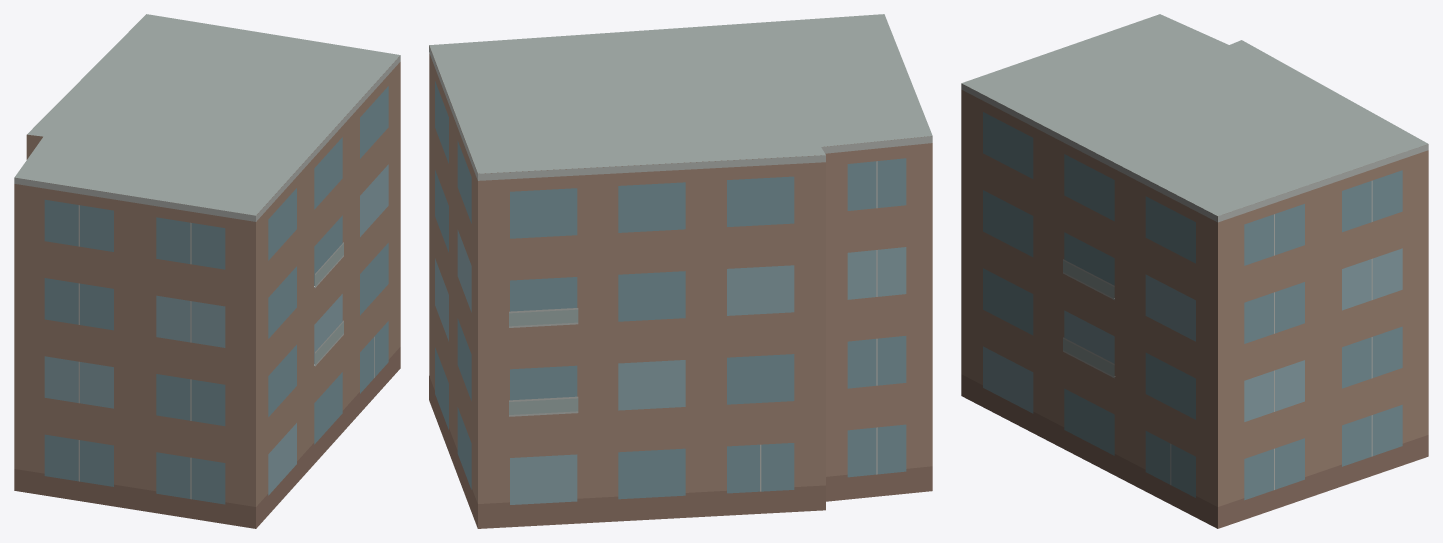
Rendered from survey-upis-32724432.glb.
3 renders of one model, left to right at view 1: azimuth 30°, elevation 25°; view 2: azimuth 150°, elevation 25°; view 3: azimuth 270°, elevation 25°, orthographic. The views are drawn at different scales.
Visible parts, largest first — view 1: survey-upis-32724432.tmp; view 2: survey-upis-32724432.tmp; view 3: survey-upis-32724432.tmp.
Part boxes in pixels (x1,y1,x2,y2): survey-upis-32724432.tmp: (14, 14, 400, 528); survey-upis-32724432.tmp: (429, 14, 932, 528); survey-upis-32724432.tmp: (961, 14, 1428, 528).
Bounding box in the file's own units: 16.93 × 12.2 × 16.53.
